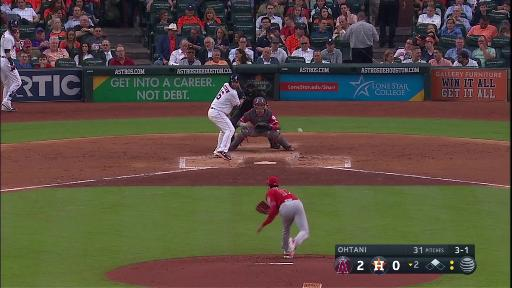pitcher: (257, 173, 314, 258)
